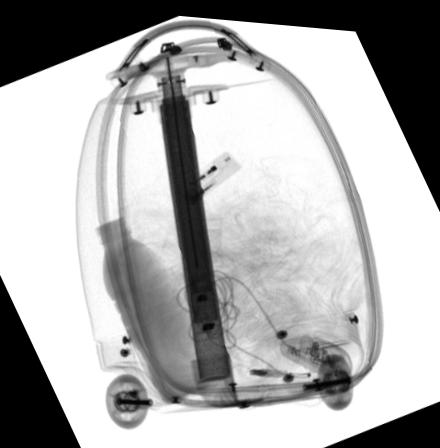Lighter: (179, 147, 241, 201)
